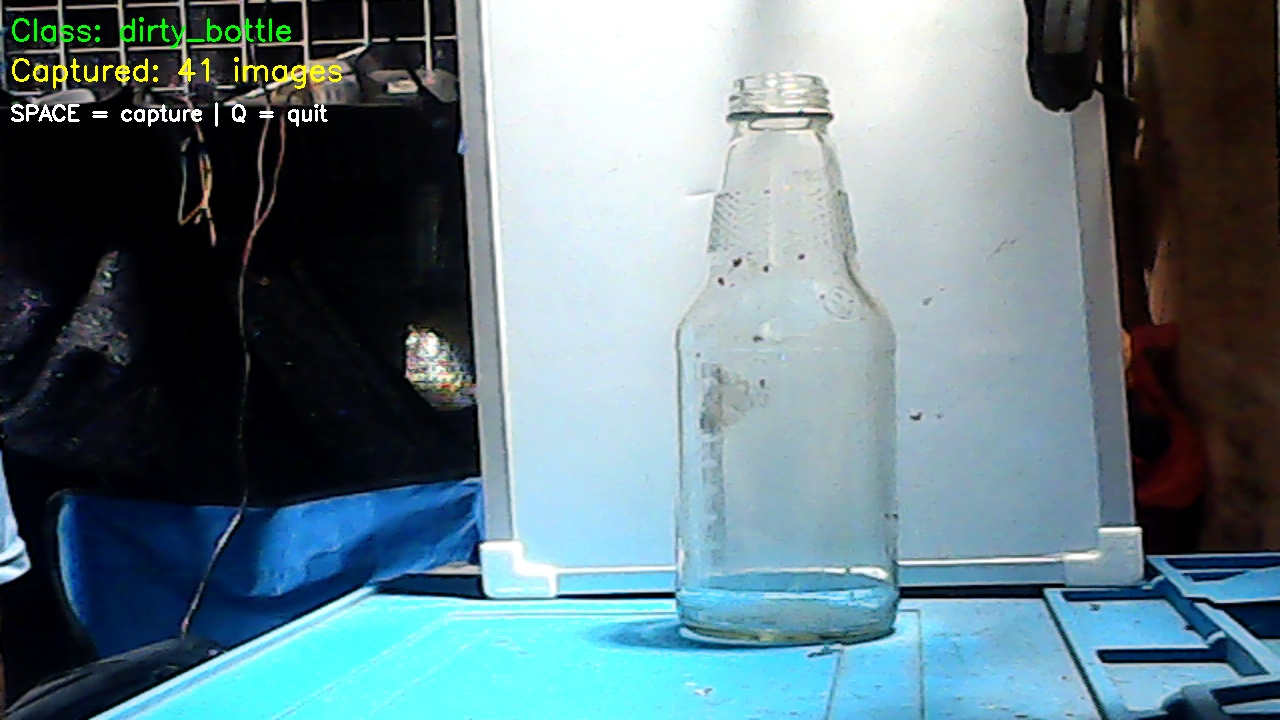dirty_bottle: (661, 60, 908, 669)
